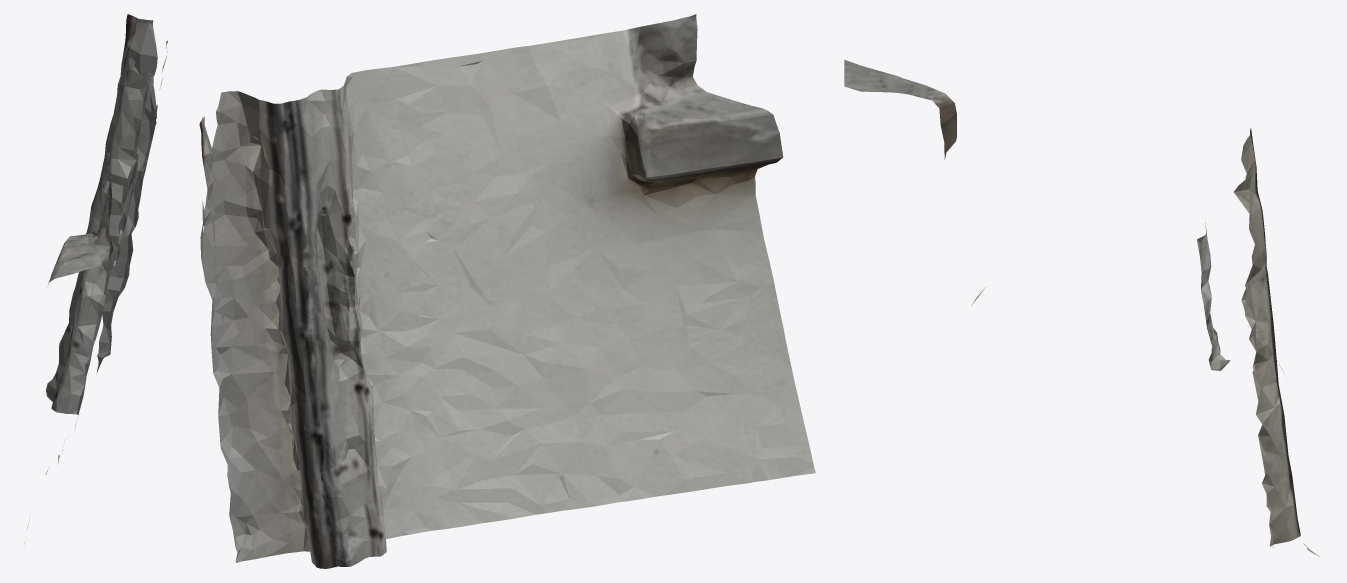
3 renders of one model, left to right at view 1: azimuth 30°, elevation 25°; view 2: azimuth 150°, elevation 25°; view 3: azimuth 270°, elevation 25°, orthographic. The views are drawn at different scales.
Size of the model in its own units: 0.8056 by 0.8374 by 0.8374.
4 materials, 4 textured.
